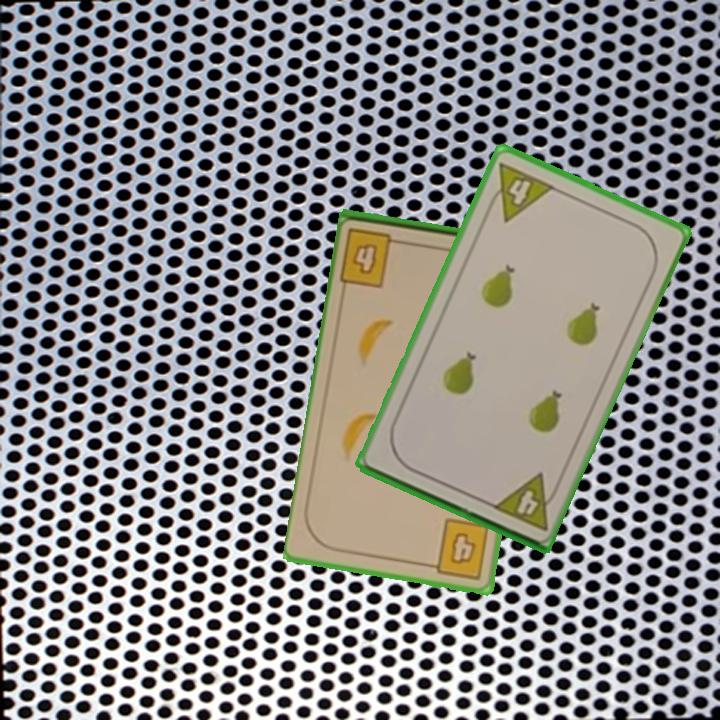4b: (337, 224, 409, 290), (423, 515, 493, 582)
4p: (481, 158, 558, 225), (488, 469, 563, 534)
